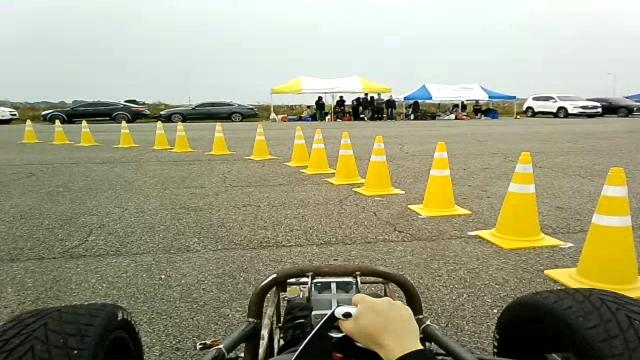yellow cone: (543, 166, 639, 298), (471, 151, 569, 250), (407, 141, 472, 217), (351, 135, 405, 196), (324, 131, 365, 185), (300, 128, 336, 174), (244, 124, 279, 160), (283, 125, 310, 167), (204, 122, 236, 155), (168, 121, 196, 152), (112, 119, 140, 148), (74, 119, 101, 146), (150, 120, 172, 150), (48, 119, 73, 144), (18, 119, 44, 143)
